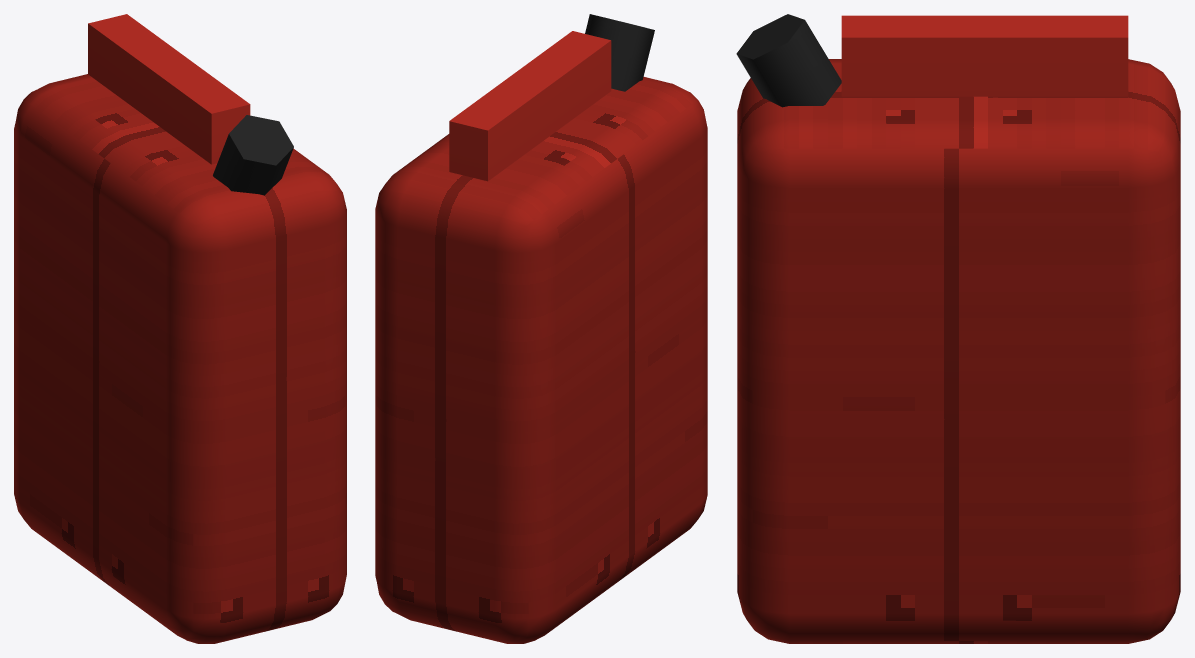
The model's file is galao.glb.
The picture shows the model from 3 angles, left to right: view 1: azimuth 30°, elevation 25°; view 2: azimuth 150°, elevation 25°; view 3: azimuth 270°, elevation 25°; orthographic projection. The views are drawn at different scales.
Visible parts, largest first — view 1: galao_metal, galao; view 2: galao_metal, galao; view 3: galao_metal, galao.
Boxes of the visible parts, x1,y1,x2,y2 form: galao_metal: (14,74,346,643); galao: (88,14,293,195); galao_metal: (375,77,707,643); galao: (449,14,654,181); galao_metal: (737,59,1180,643); galao: (736,14,1128,107).
Size of the model in its own units: 0.18 by 0.5007 by 0.3407.
Materials: 2 (1 with a texture image).
